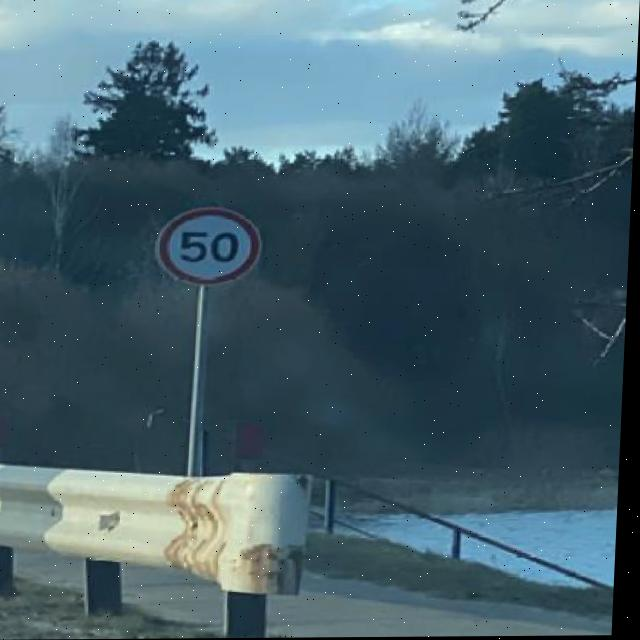Speed limit 50: (154, 204, 268, 291)
